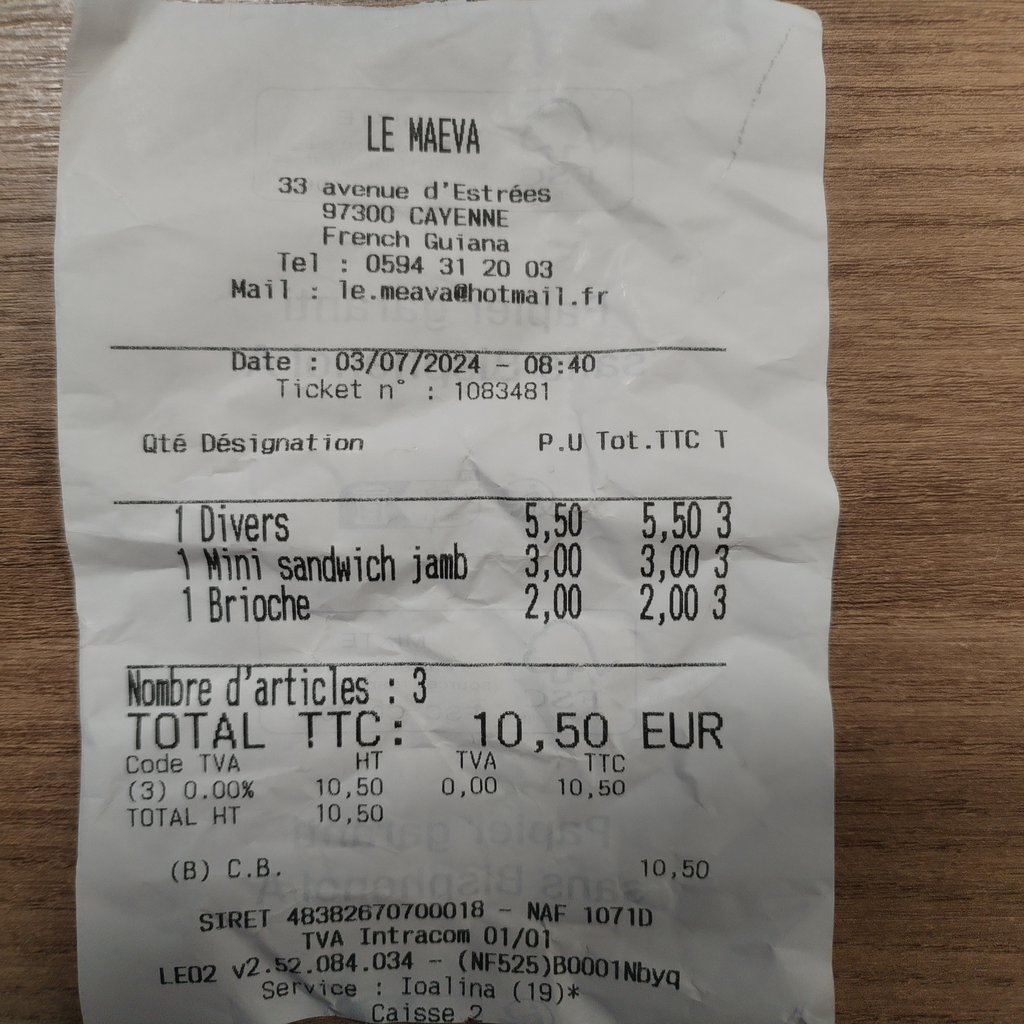recipt: (55, 2, 839, 1022)
